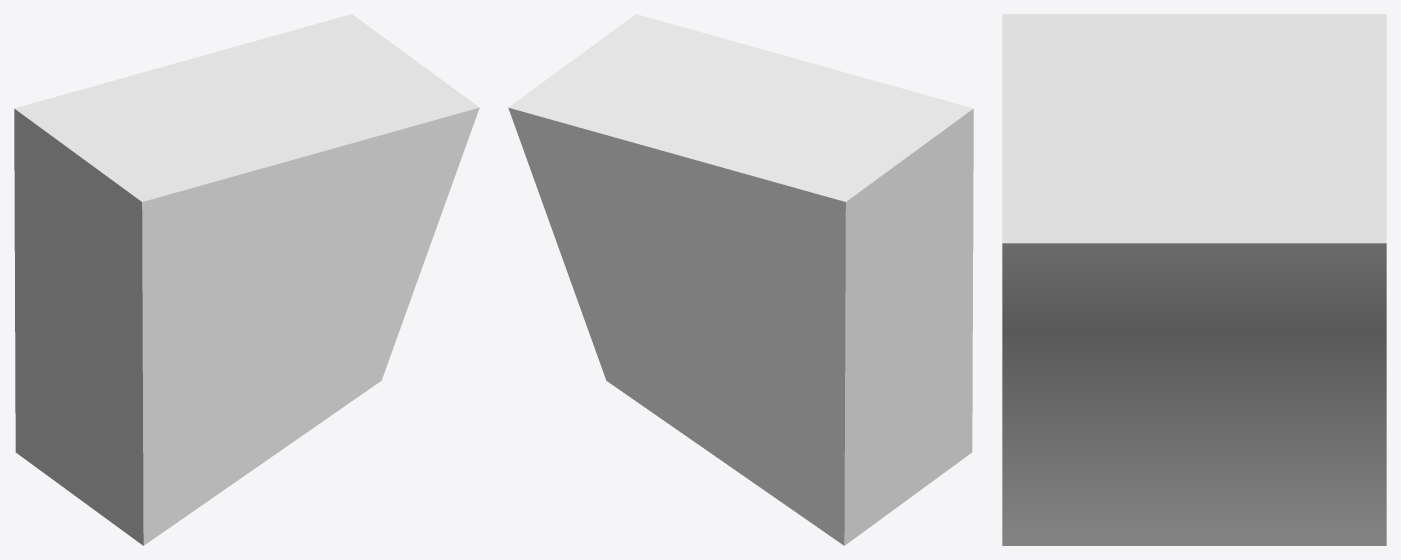
Rendered from Rank base.glb.
3 views of the same model, side by side, from view 1: azimuth 30°, elevation 25°; view 2: azimuth 150°, elevation 25°; view 3: azimuth 270°, elevation 25° (orthographic). The views are drawn at different scales.
Parts seen in each view (by area): view 1: mesh_id35; view 2: mesh_id35; view 3: mesh_id35.
Part boxes in pixels (x1,y1,x2,y2): mesh_id35: [14, 14, 479, 545]; mesh_id35: [508, 14, 973, 545]; mesh_id35: [1002, 14, 1386, 545].
Bounding box in the file's own units: 0.1524 × 0.1537 × 0.1.
Materials: 1 (1 with a texture image).
